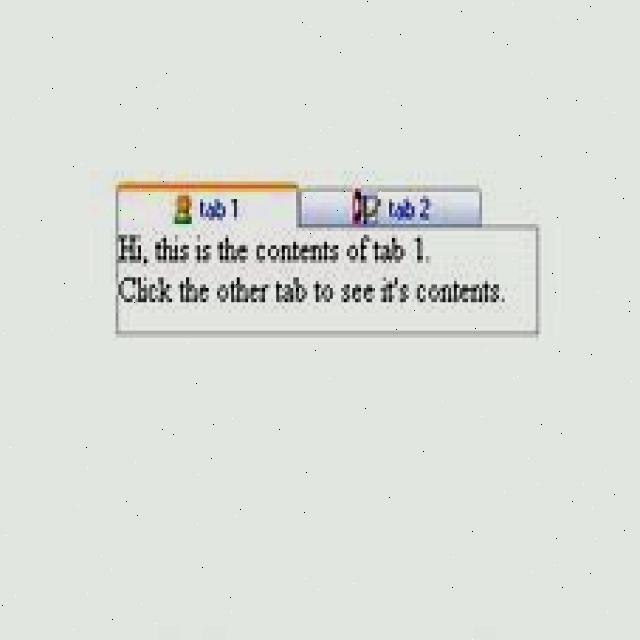label: (119, 237, 511, 310)
tabControl: (110, 177, 492, 236)
